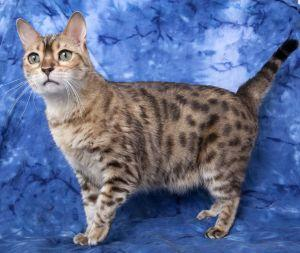bengal: (11, 6, 103, 112)
